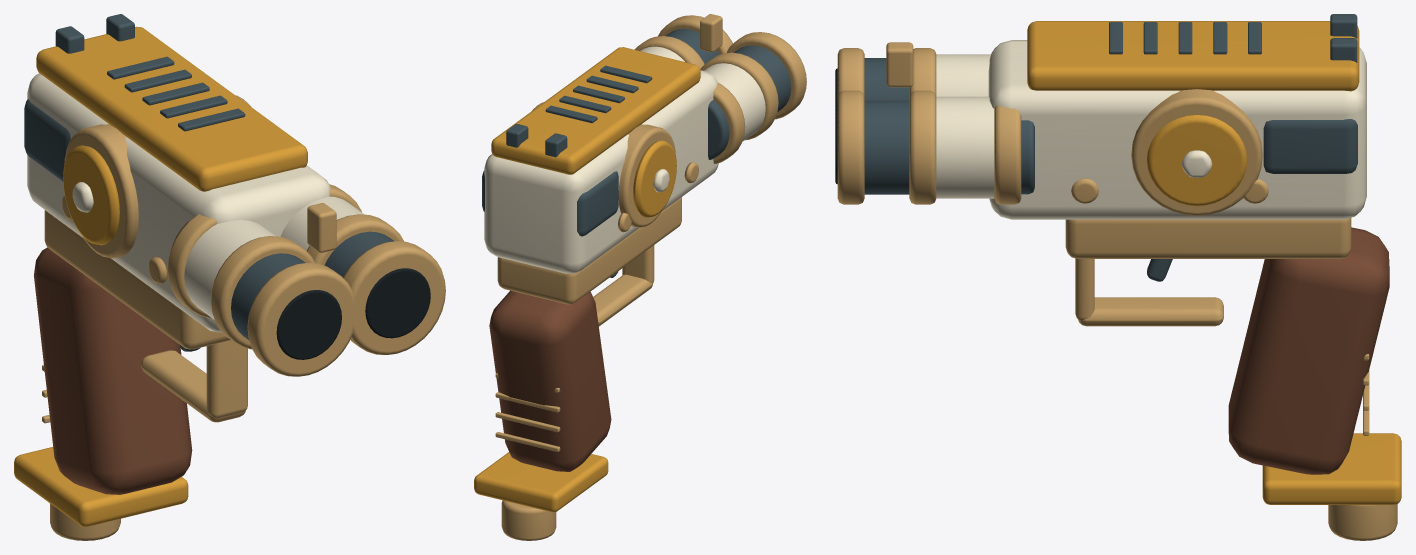
Rendered from lucky-cat.glb.
The picture shows the model from 3 angles, left to right: view 1: azimuth 30°, elevation 25°; view 2: azimuth 150°, elevation 25°; view 3: azimuth 270°, elevation 25°; orthographic projection. The views are drawn at different scales.
Parts seen in each view (by area): view 1: Carved walnut grip, Enamel spine, Receiver, Barrel collar.002, Lower frame, Magazine, Barrel collar.005, Chamber enamel, Arcane chamber, Muzzle.001, Muzzle, Ceramic barrel jacket (+19 smaller); view 2: Carved walnut grip, Receiver, Enamel spine, Lower frame, Magazine, Chamber enamel, Barrel, Arcane chamber, Ceramic barrel jacket, Barrel collar.002, Moving action, Lucky bell (+17 smaller); view 3: Receiver, Carved walnut grip, Enamel spine, Lower frame, Magazine, Chamber enamel.001, Ceramic barrel jacket.001, Arcane chamber, Barrel.001, Moving action, Guard bottom, Barrel collar.004 (+10 smaller).
Boxes of the visible parts, x1,y1,x2,y2 form: Carved walnut grip: (34,247,192,494); Enamel spine: (36,26,307,191); Receiver: (27,73,330,332); Barrel collar.002: (247,263,353,376); Lower frame: (44,210,230,349); Magazine: (14,447,188,526); Barrel collar.005: (343,241,445,354); Chamber enamel: (63,145,119,245); Arcane chamber: (64,95,251,258); Muzzle.001: (365,268,430,338); Muzzle: (276,290,341,359); Ceramic barrel jacket: (184,219,275,319); Carved walnut grip: (489,290,611,471); Receiver: (484,70,718,273); Enamel spine: (491,47,700,174); Lower frame: (497,197,681,304); Magazine: (474,452,608,512); Chamber enamel: (633,140,676,217); Barrel: (708,45,791,159); Arcane chamber: (532,102,675,227); Ceramic barrel jacket: (704,63,765,141); Barrel collar.002: (726,32,806,119); Moving action: (482,170,618,236); Lucky bell: (501,500,556,540); Receiver: (988,40,1366,219); Carved walnut grip: (1228,227,1389,474); Enamel spine: (1027,21,1359,91); Lower frame: (1065,218,1351,258); Magazine: (1262,433,1401,504); Chamber enamel.001: (1147,114,1247,205); Ceramic barrel jacket.001: (936,96,994,198); Arcane chamber: (1131,89,1262,215); Barrel.001: (864,100,1034,194); Moving action: (1263,119,1357,173); Guard bottom: (1078,297,1223,326); Barrel collar.004: (909,90,936,204).
Size of the model in its own units: 0.278 by 0.714 by 0.7335.
